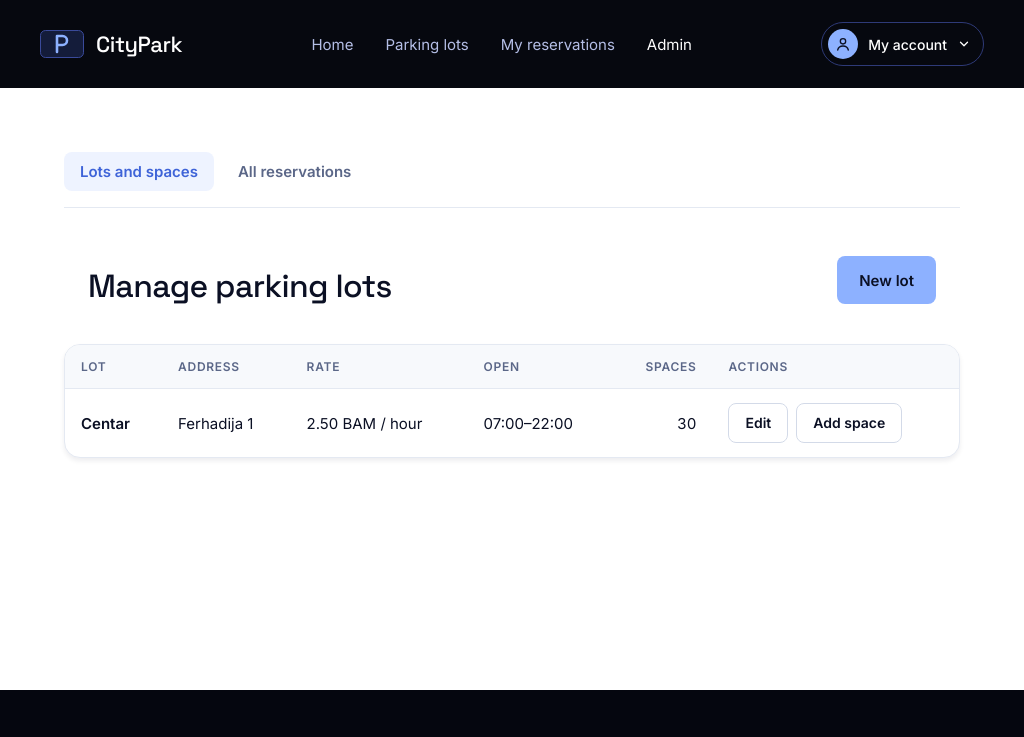
Test: admin spaces › adds a space, clears the field for the next one and reloads the lots
Click the button with aria-label "Add a space to Centar" at [849, 423], box [796,403,902,443]
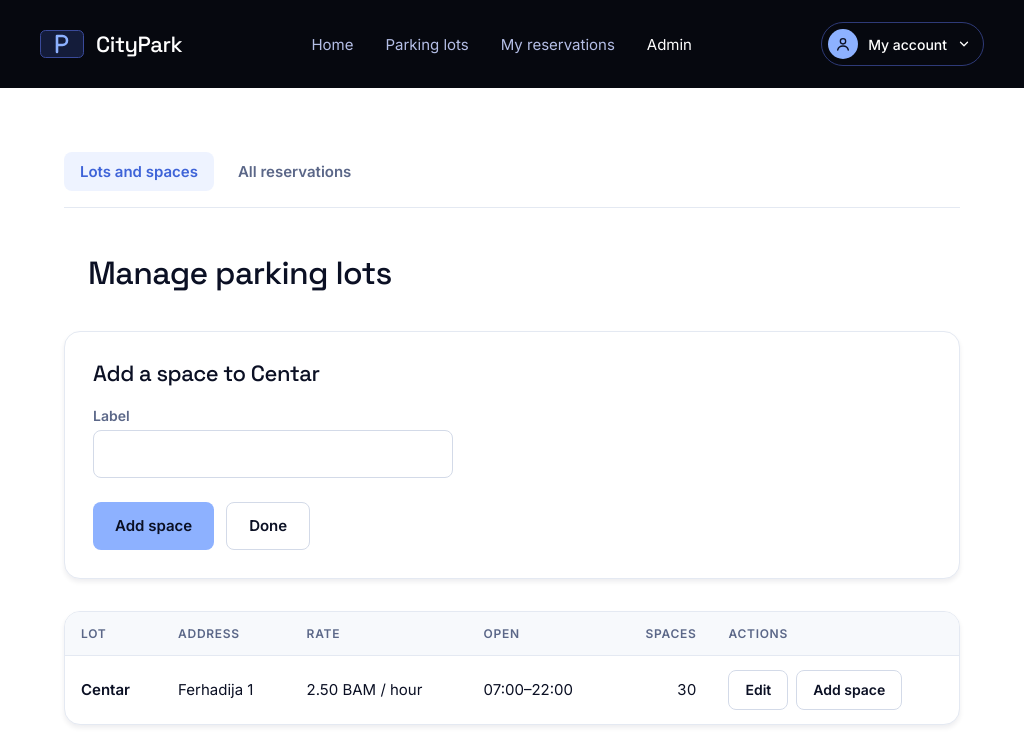
Type "b-01" into the field labelled "Label" at [273, 454], box [93,430,453,478]
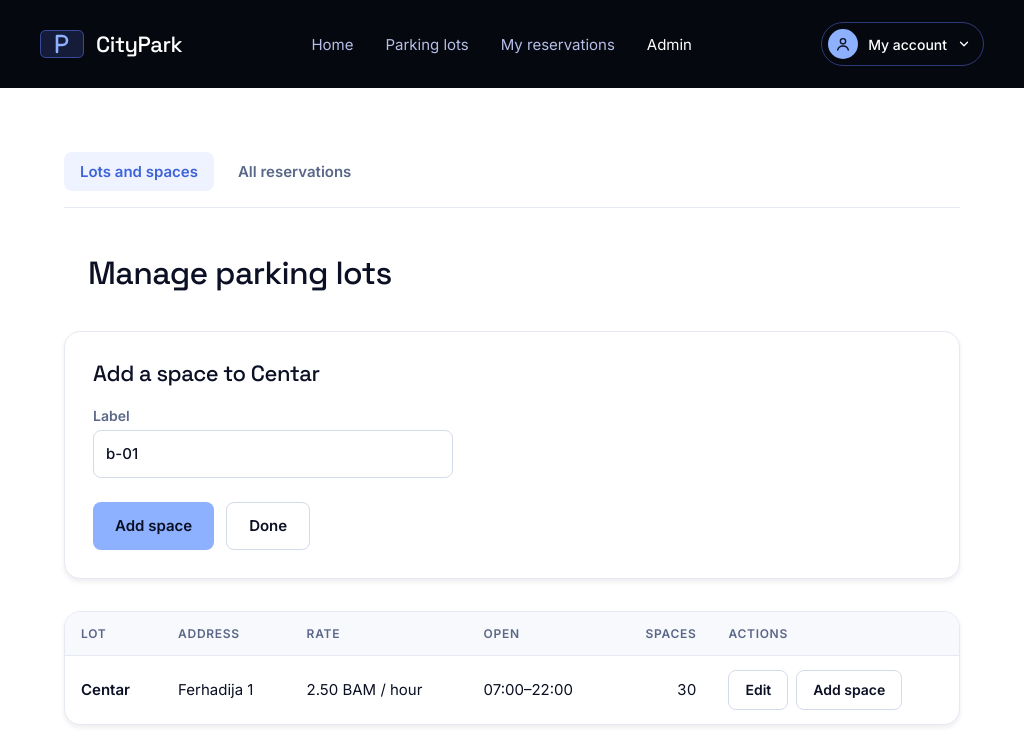
Click the button "Add space" below "Label" at [154, 526], box [93,502,214,550]
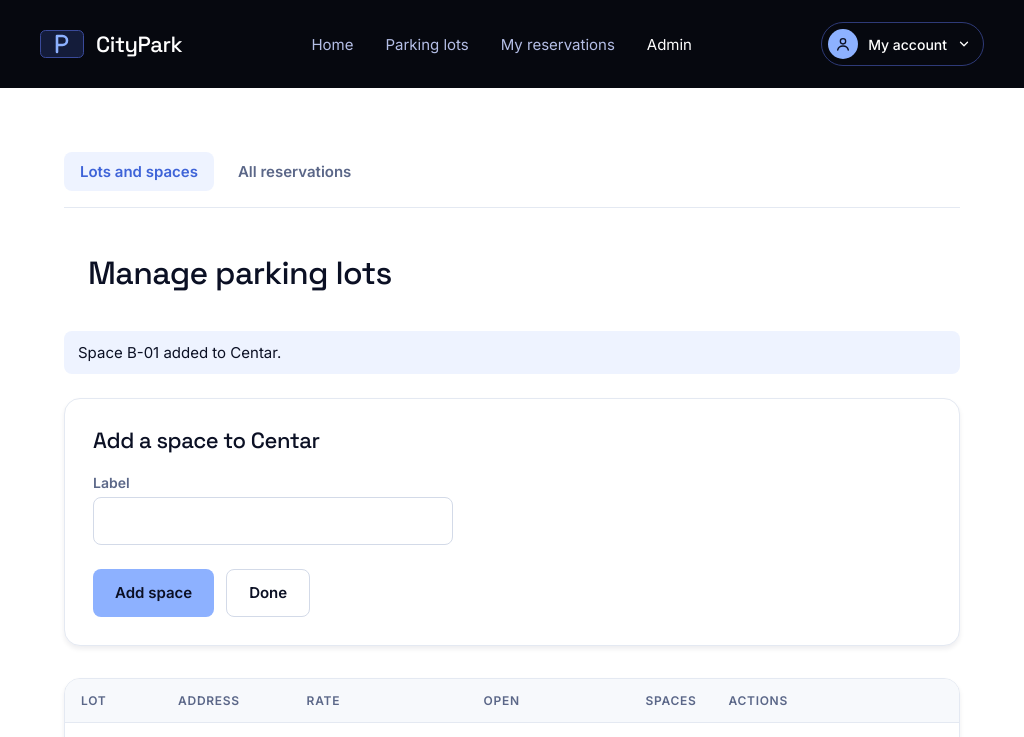
Now the message reads "Space B-01 added to Centar.", box [78,343,281,362]
Now the field labelled "Label" is empty, box [93,497,453,545]
